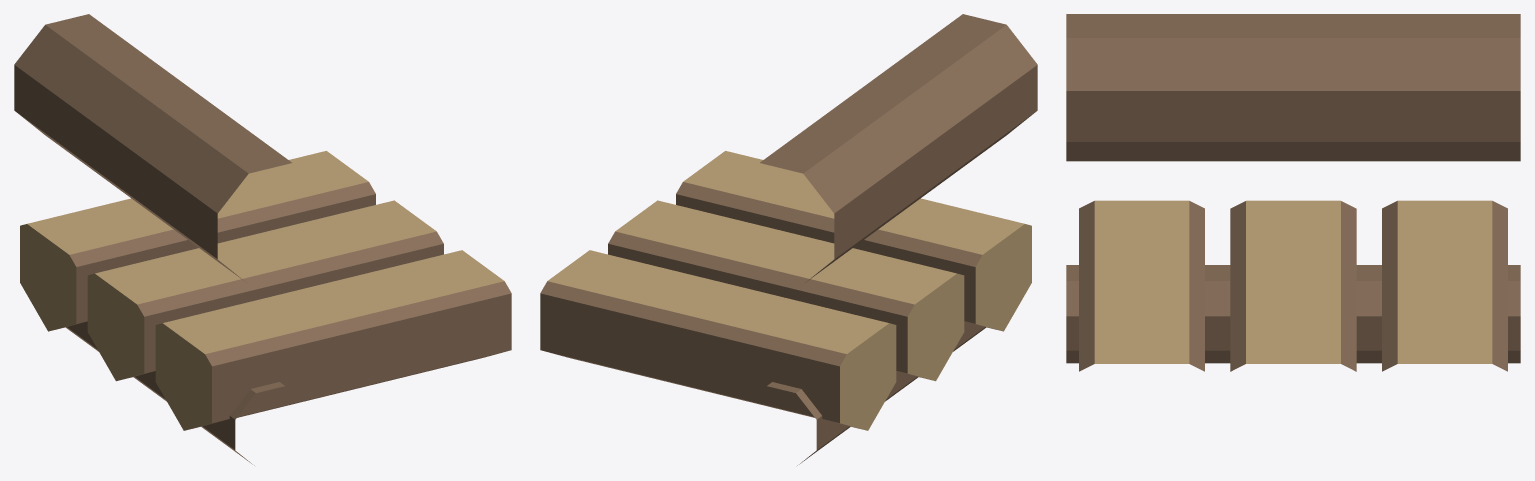
File: Hilly_Prop_Bridge_Log_Middle_Edge.glb
The picture shows the model from 3 angles, left to right: view 1: azimuth 30°, elevation 25°; view 2: azimuth 150°, elevation 25°; view 3: azimuth 270°, elevation 25°; orthographic projection. The views are drawn at different scales.
Parts seen in each view (by area): view 1: Hilly_Prop_Bridge_Log_Middle_Edge; view 2: Hilly_Prop_Bridge_Log_Middle_Edge; view 3: Hilly_Prop_Bridge_Log_Middle_Edge.
Part boxes in pixels (<box>): Hilly_Prop_Bridge_Log_Middle_Edge: <box>14,14,511,465</box>; Hilly_Prop_Bridge_Log_Middle_Edge: <box>540,14,1037,465</box>; Hilly_Prop_Bridge_Log_Middle_Edge: <box>1066,14,1520,371</box>.
Size of the model in its own units: 0.85 by 0.8 by 1.
